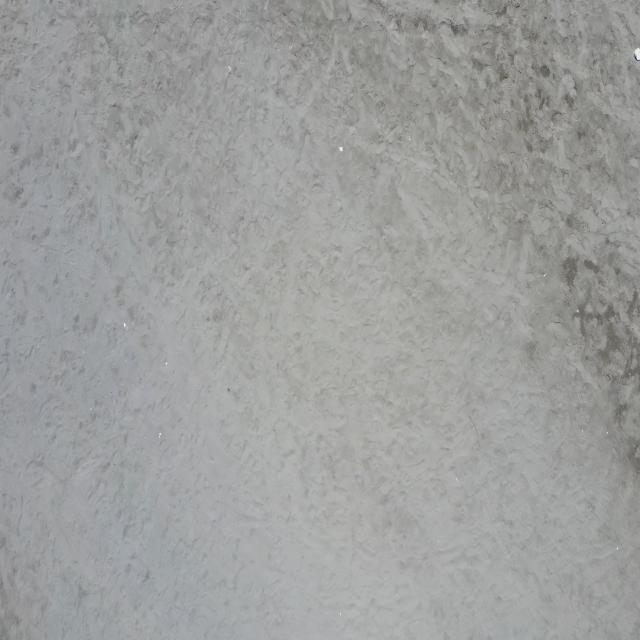take-away-containers: (634, 47, 640, 59)
